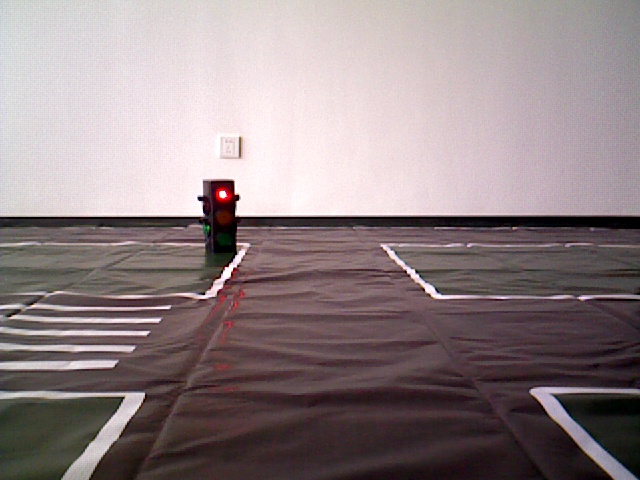red: (205, 181, 235, 254)
